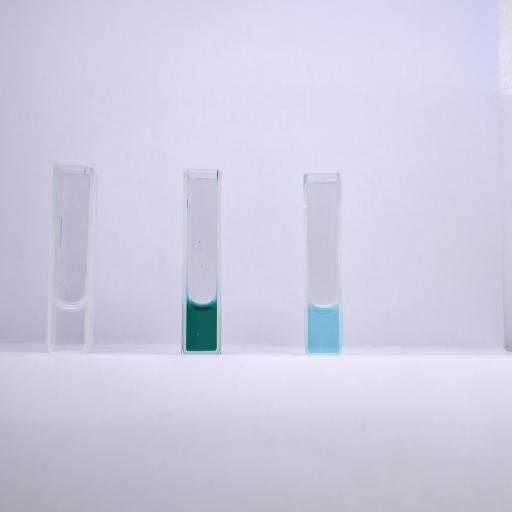cuvette: (46, 162, 96, 355), (300, 170, 346, 358), (180, 166, 224, 358)
liquid: (52, 298, 84, 350), (186, 300, 217, 352), (308, 305, 338, 352)
